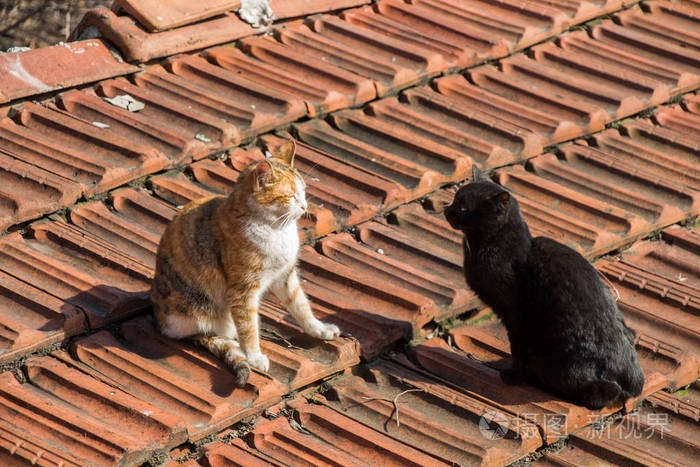cat: (444, 165, 644, 411), (153, 140, 341, 387)
